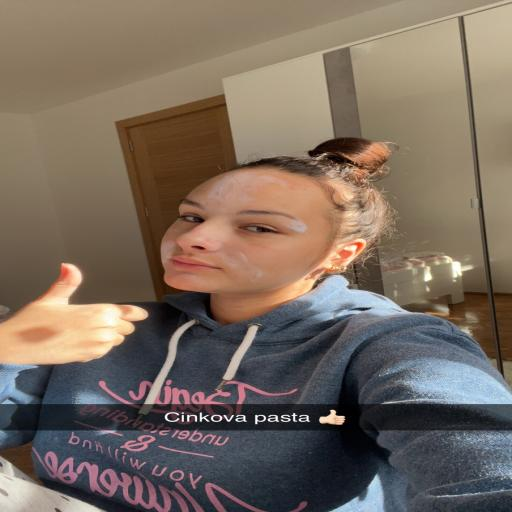marija: (157, 174, 342, 293)
